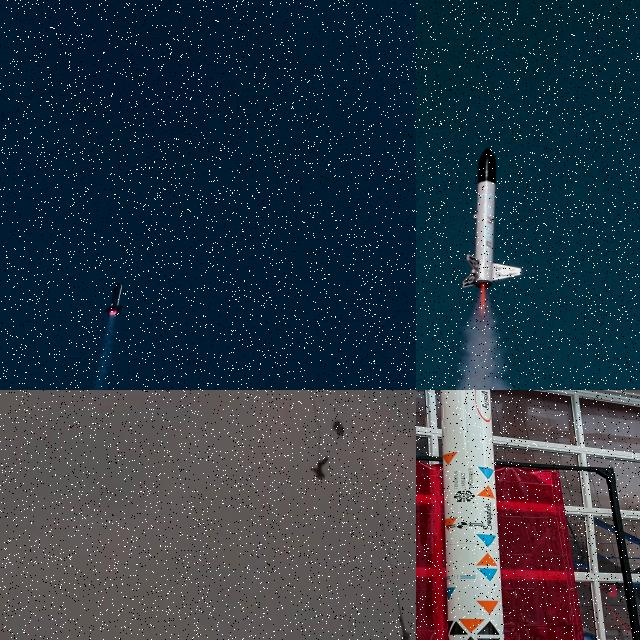Rocket: (441, 390, 505, 640), (459, 147, 523, 292), (102, 282, 125, 318), (400, 615, 409, 640)
